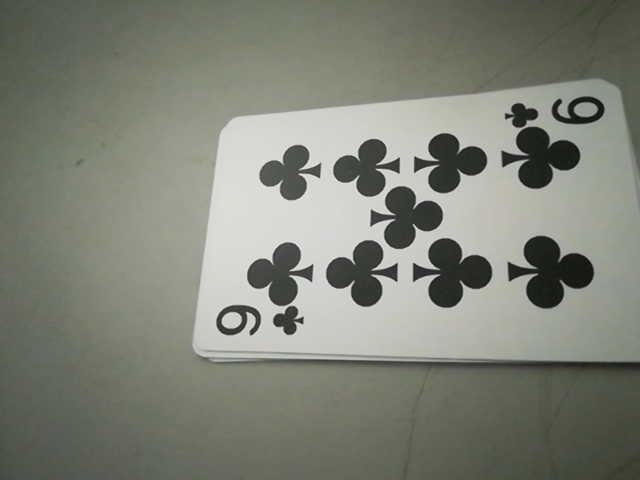mh 9: (207, 298, 313, 350), (501, 89, 610, 133)
